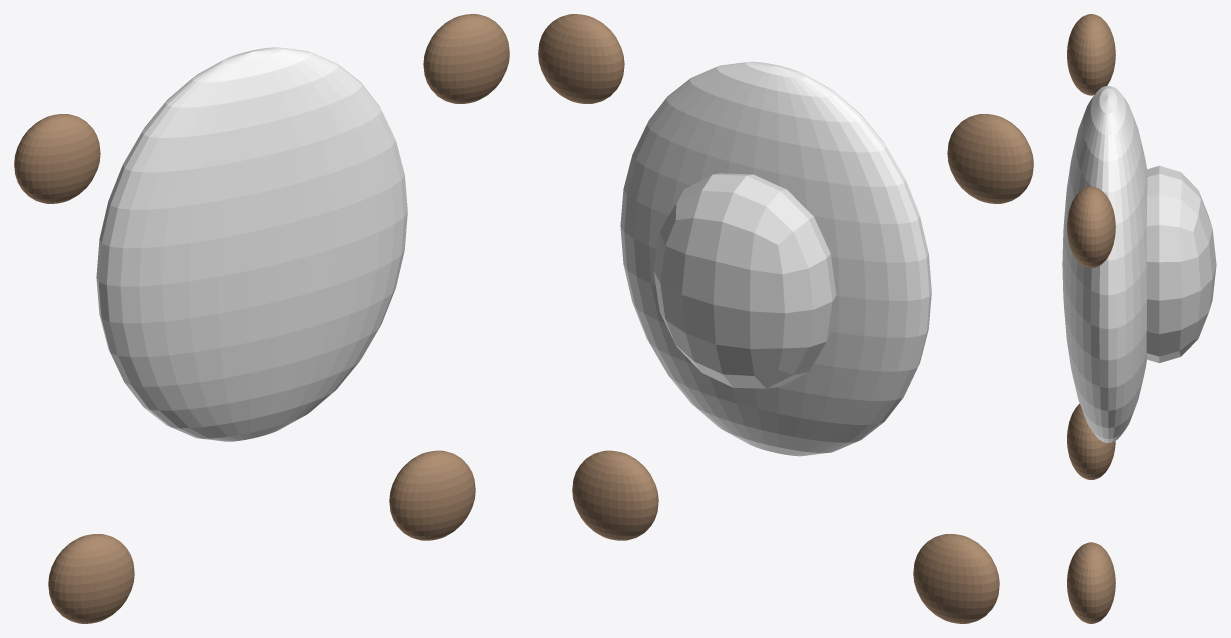
The model's file is white_cat_suit_pro.fbx.
3 views of the same model, side by side, from view 1: azimuth 30°, elevation 25°; view 2: azimuth 150°, elevation 25°; view 3: azimuth 270°, elevation 25° (orthographic). The views are drawn at different scales.
Visible parts, largest first — view 1: Sphere, Sphere.002, Sphere.003, Sphere.004, Sphere.001; view 2: Sphere, Cube, Sphere.002, Sphere.003, Sphere.004, Sphere.001; view 3: Sphere, Cube, Sphere.002, Sphere.004, Sphere.003, Sphere.001.
Boxes of the visible parts, x1,y1,x2,y2 form: Sphere: (96,47,407,441); Sphere.002: (389,450,475,540); Sphere.003: (14,114,100,203); Sphere.004: (423,14,509,103); Sphere.001: (48,534,134,623); Sphere: (620,61,931,456); Cube: (653,173,836,388); Sphere.002: (572,450,658,540); Sphere.003: (947,114,1033,203); Sphere.004: (538,14,624,103); Sphere.001: (913,534,999,623); Sphere: (1062,86,1147,442); Cube: (1146,165,1216,363); Sphere.002: (1067,542,1115,623); Sphere.004: (1067,186,1115,268); Sphere.003: (1067,14,1115,95); Sphere.001: (1067,403,1115,479).
Size of the model in its own units: 144 by 146 by 45.29.
